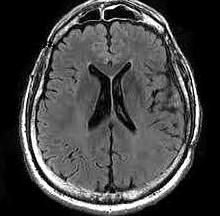Normal_Brain: (19, 1, 220, 216)
